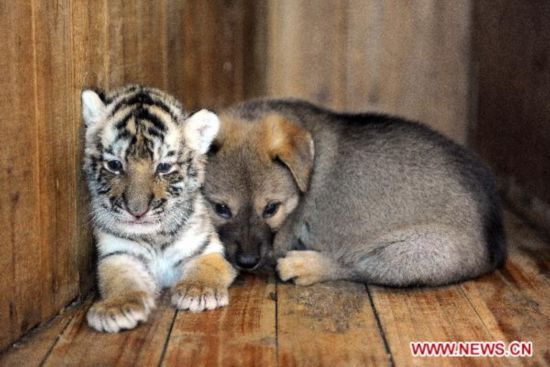dog: (196, 97, 506, 289)
tiger: (79, 85, 233, 334)
